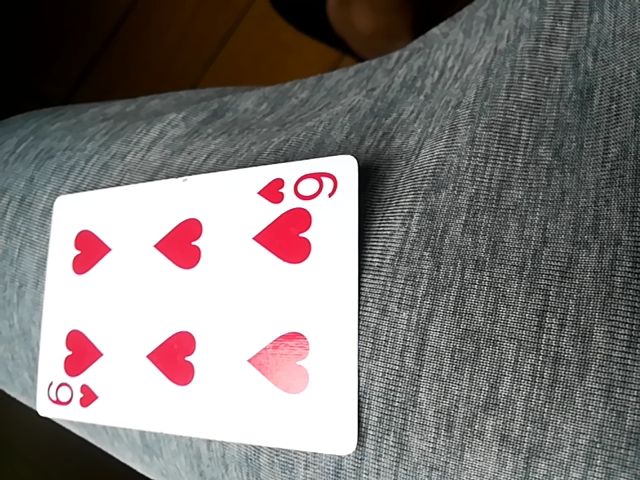hx 6: (43, 155, 363, 462)
